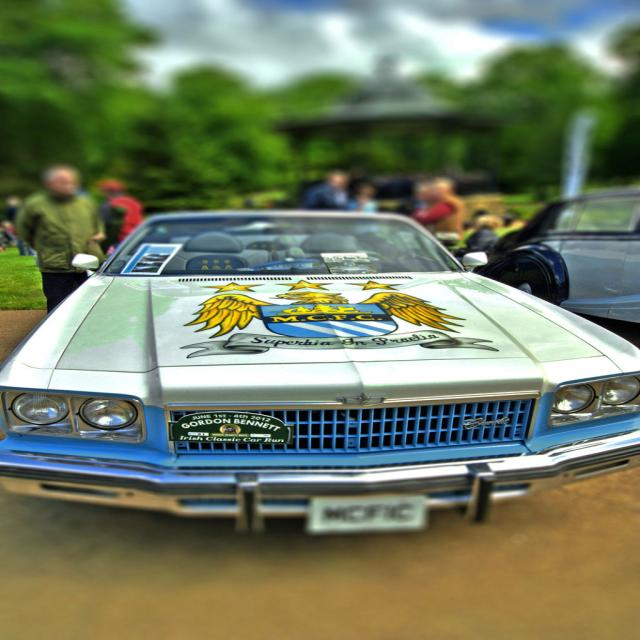car: (0, 207, 638, 535)
